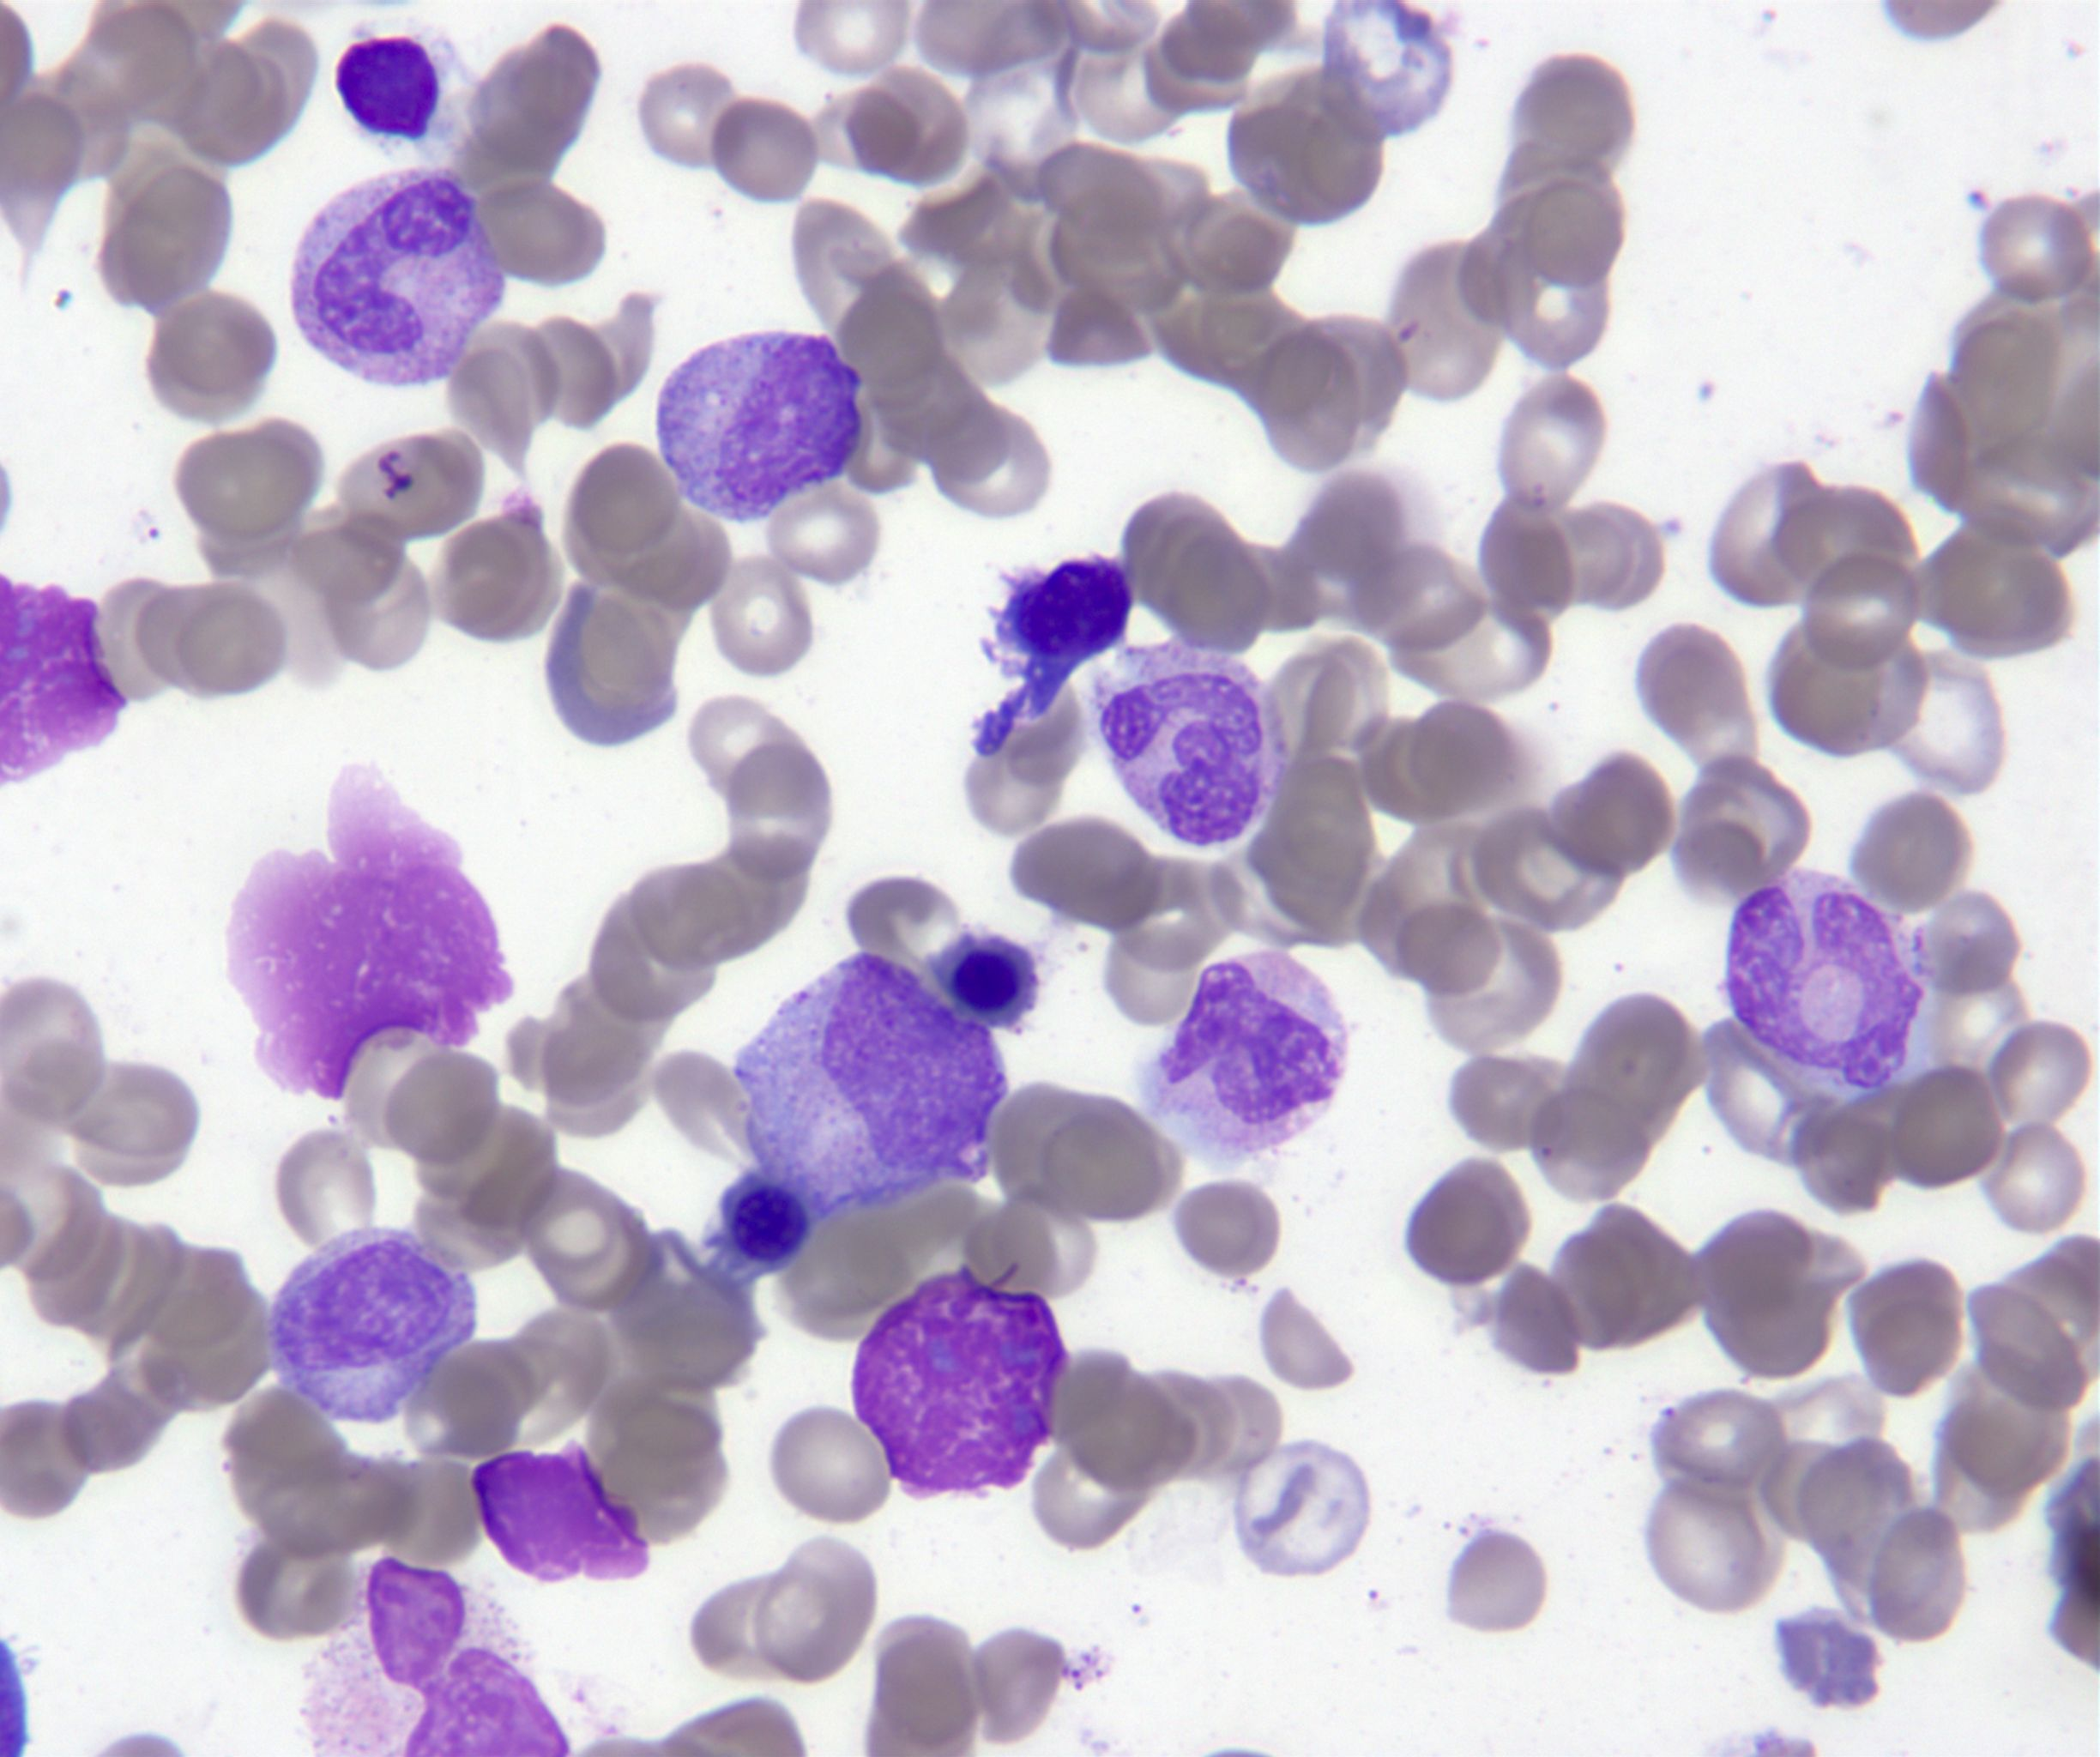24: (930, 930, 1034, 1033), (710, 1178, 811, 1279)
3: (734, 954, 1003, 1204), (267, 1230, 476, 1422), (658, 333, 863, 516)
32: (978, 553, 1134, 755)
5: (291, 171, 502, 382)
6: (1132, 951, 1343, 1159), (1730, 871, 1920, 1101), (1092, 637, 1280, 844)
x: (228, 766, 515, 1099), (302, 1560, 576, 1757), (849, 1268, 1069, 1499), (0, 576, 131, 790), (476, 1443, 651, 1583), (337, 35, 478, 159)
